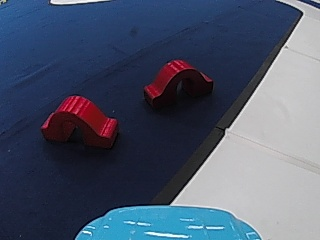bridge: (37, 91, 124, 147), (138, 55, 217, 109)
